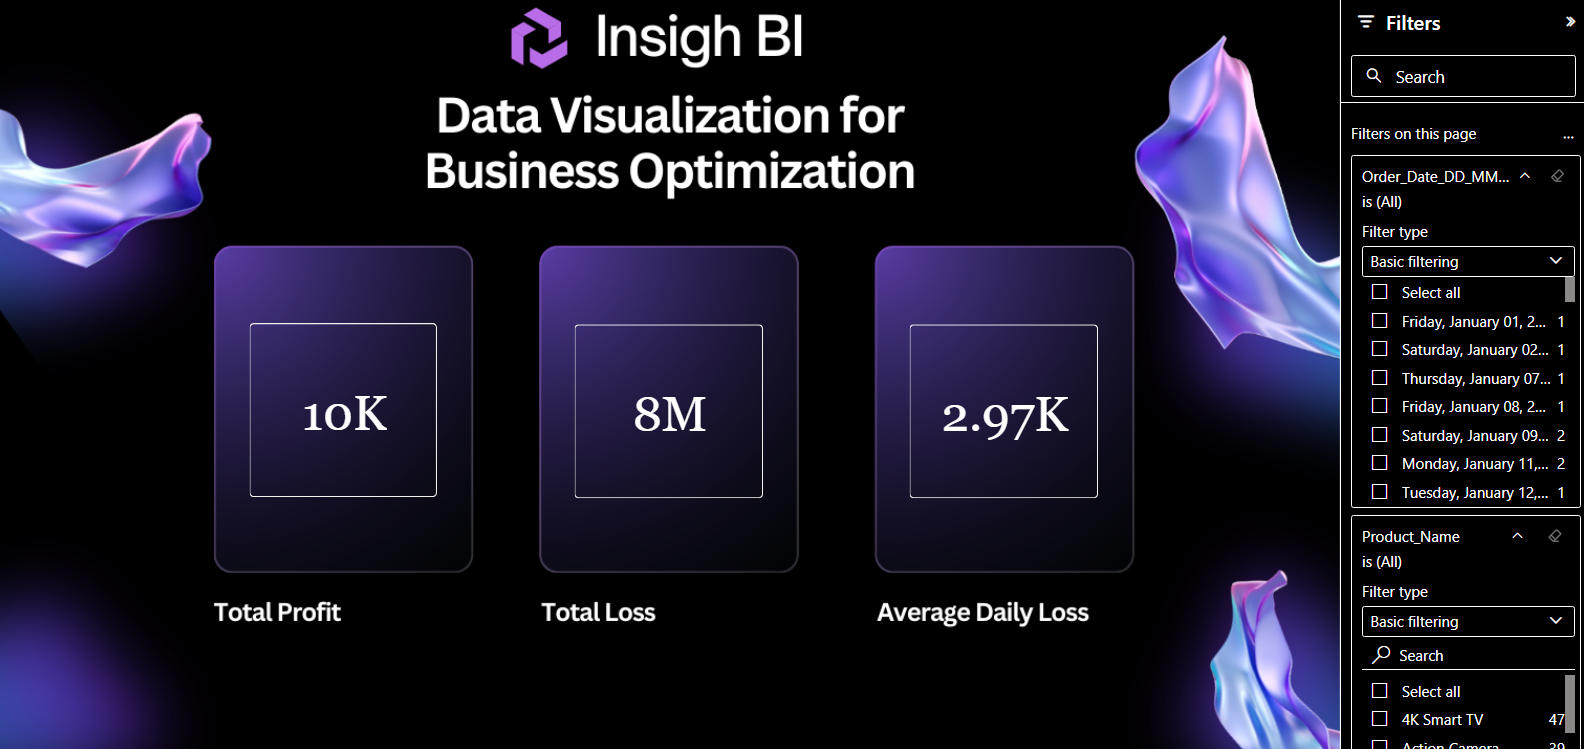

What the dashboard file says about the page in this screenshot:
{"tool":"powerbi","page":{"name":"Page 2","canvas":[1280,720],"ordinal":1},"visuals":[{"type":"cardVisual","fields":{"Data":["Measure Table 2.Total Profit"]},"box":[223.4,293.6,213.3,200.8],"z":0},{"type":"cardVisual","fields":{"Data":["Measure Table 2.Total Loss"]},"box":[532.5,294.3,214.4,200.8],"z":1000},{"type":"cardVisual","fields":{"Data":["Measure Table 2.Average Loss Per Day"]},"box":[852.4,294.3,214.4,200.8],"z":2000}]}

Visuals, with their boxes on the page's 1280x720 design canvas (x1, y1, x2, y2). These are canvas units, not pixel positions in the 1584x749 screenshot, which may show the page scaled, cropped or inside an application window:
cardVisual - Measure Table 2.Total Profit: x1=223, y1=294, x2=437, y2=494
cardVisual - Measure Table 2.Total Loss: x1=532, y1=294, x2=747, y2=495
cardVisual - Measure Table 2.Average Loss Per Day: x1=852, y1=294, x2=1067, y2=495
